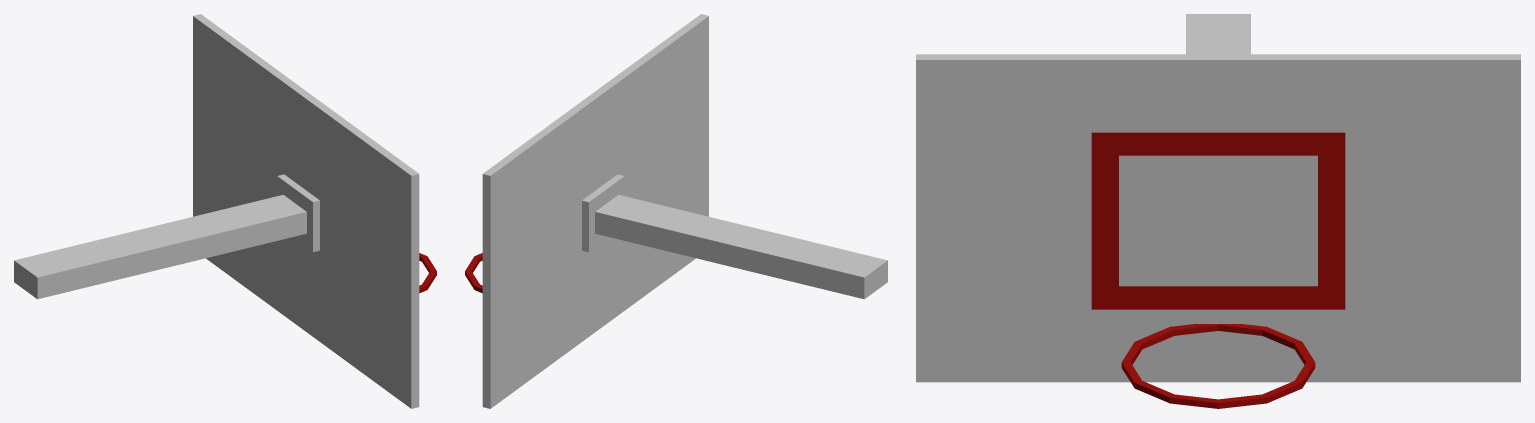
File: sport2.fbx
3 views of the same model, side by side, from view 1: azimuth 30°, elevation 25°; view 2: azimuth 150°, elevation 25°; view 3: azimuth 270°, elevation 25° (orthographic). The views are drawn at different scales.
Visible parts, largest first — view 1: Cube; view 2: Cube; view 3: Cube.
Part boxes in pixels (x1,y1,x2,y2): Cube: (14,14,436,408); Cube: (465,14,887,408); Cube: (916,14,1520,408).
Bounding box in the file's own units: 361 × 200 × 340.
